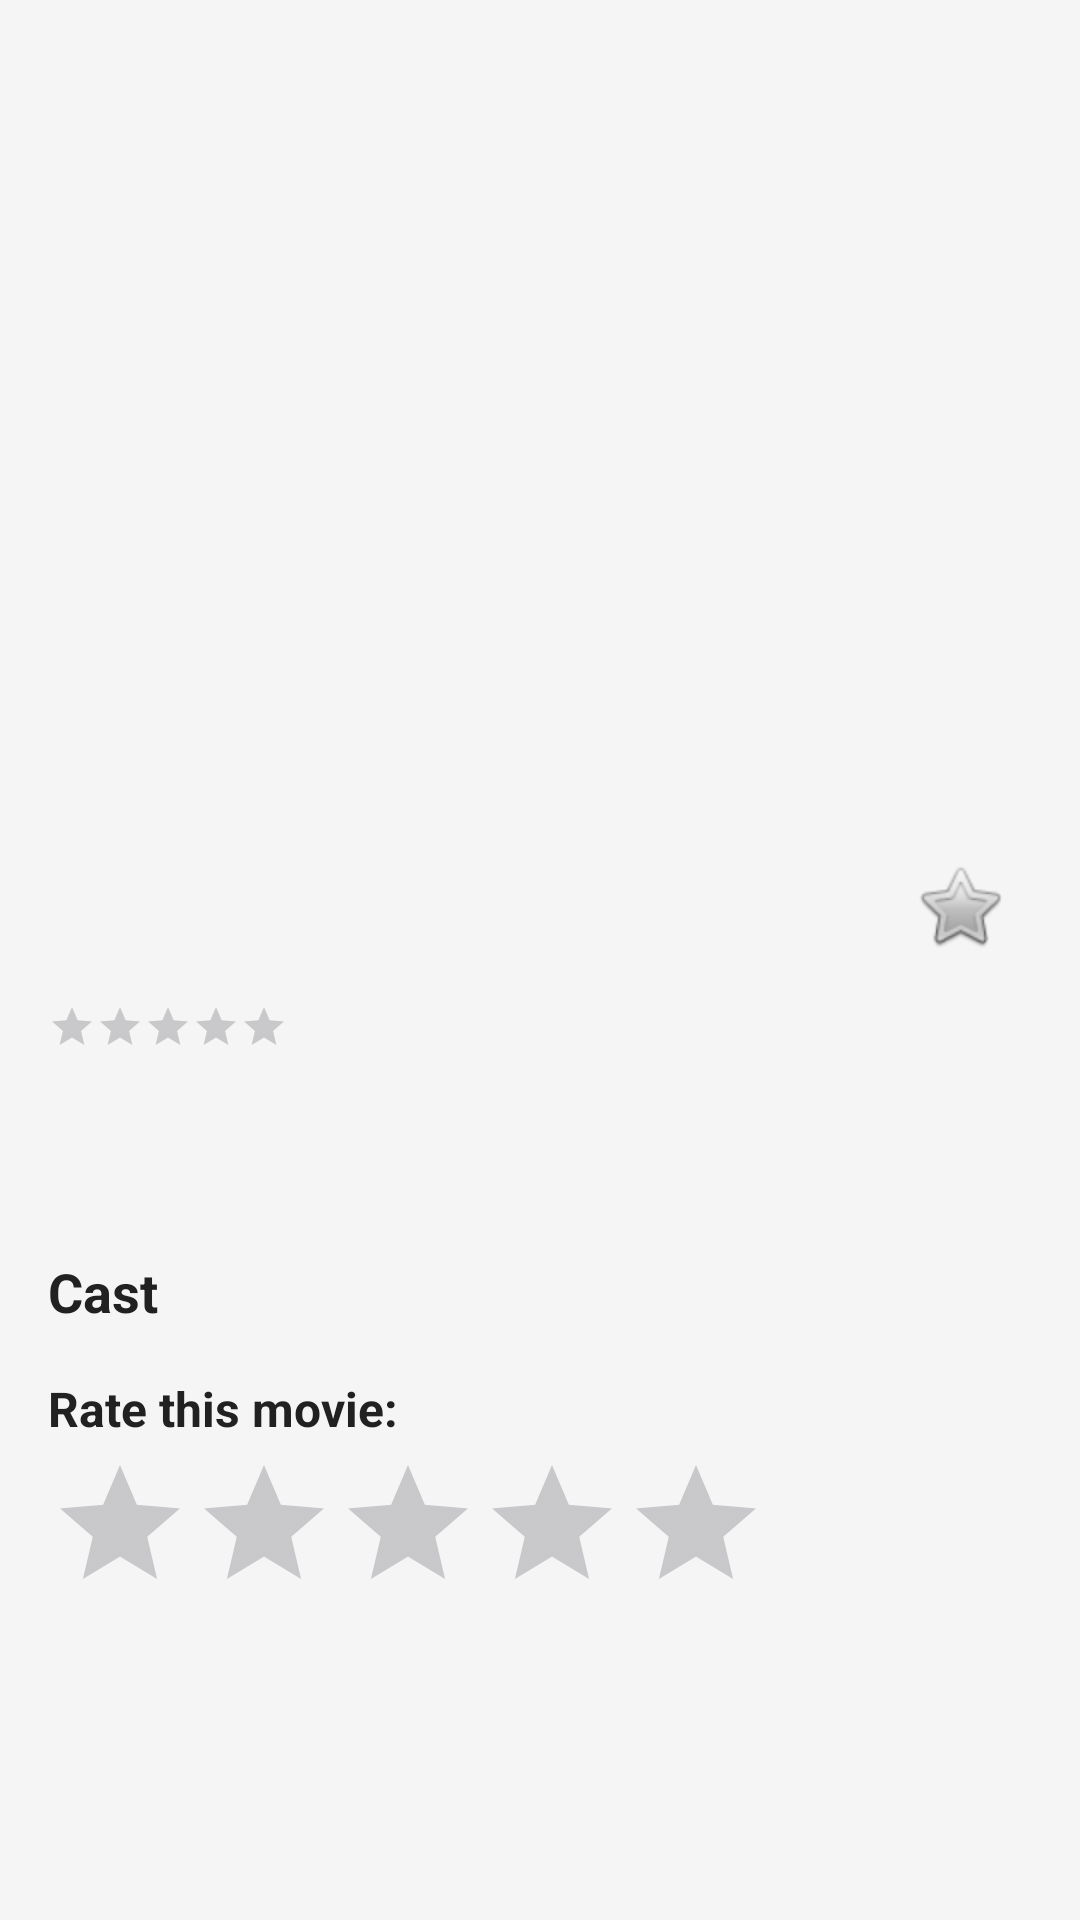

Icon bounding boxes for this 1080*1920 phone screenshot, format (x1, y1, x2, y2):
star off: (921, 868, 1001, 946)
